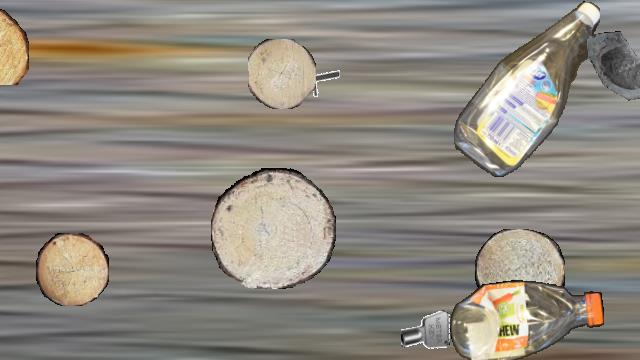glass: (587, 31, 640, 113)
metal: (401, 306, 451, 356), (302, 61, 340, 99)
plastic: (454, 1, 600, 177), (450, 279, 604, 359)
wood: (211, 168, 335, 288), (475, 229, 565, 313), (36, 233, 108, 305), (248, 39, 316, 109), (0, 1, 28, 85)
